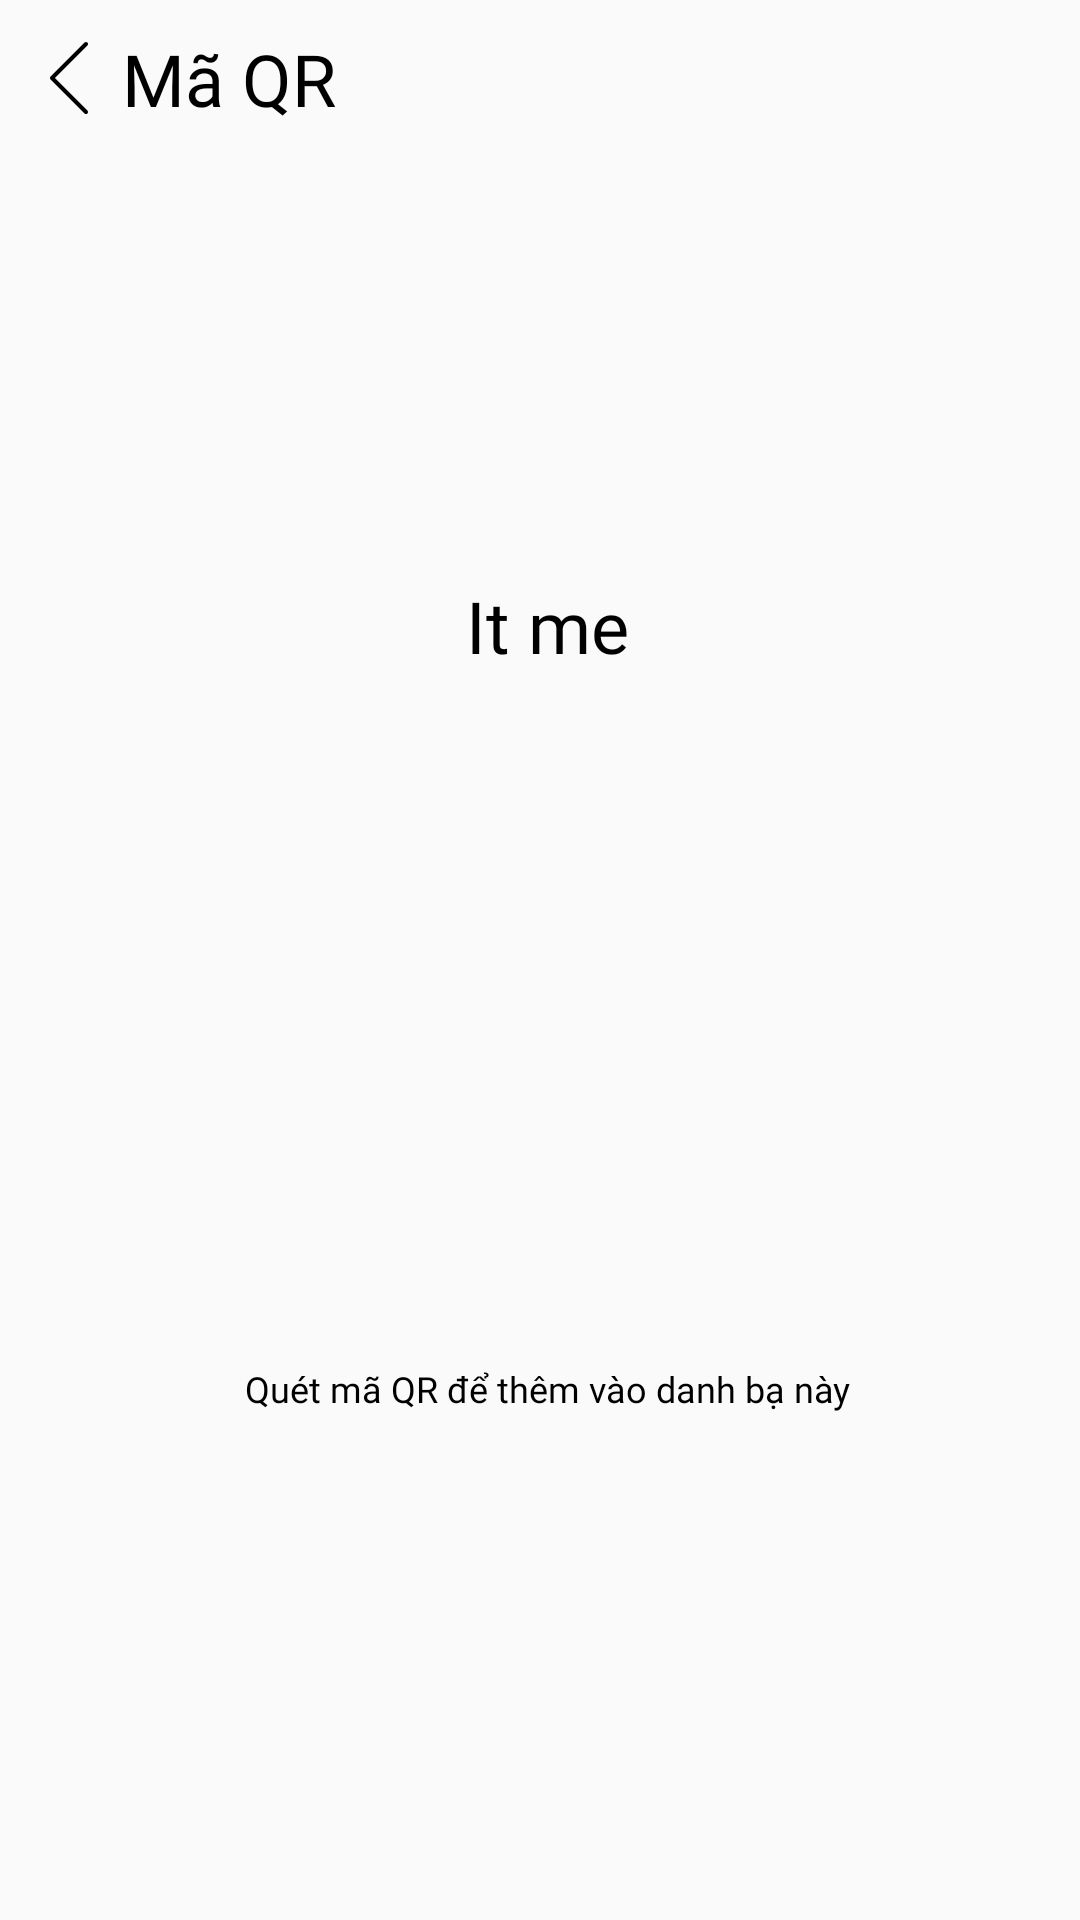

Where to tap for icons on this 1080 × 1920 app screen, as point (x, y):
backmsg: point (69, 78)
